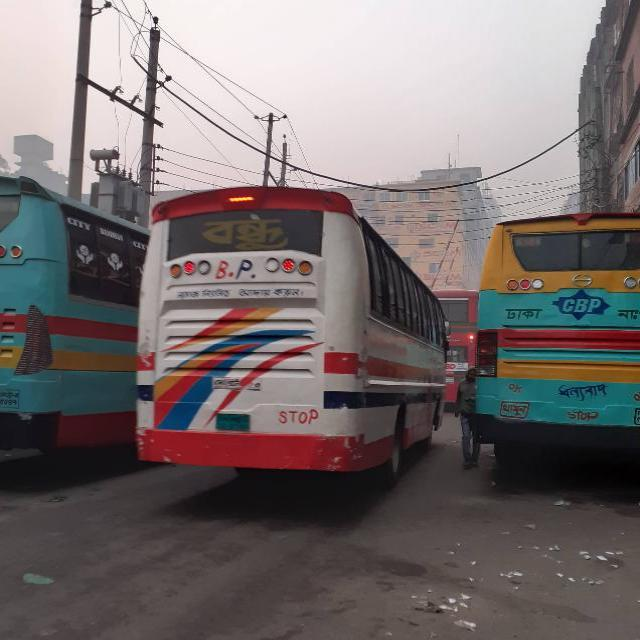Truck: (134, 186, 446, 472), (0, 176, 148, 453), (476, 212, 636, 446), (434, 290, 475, 406)
